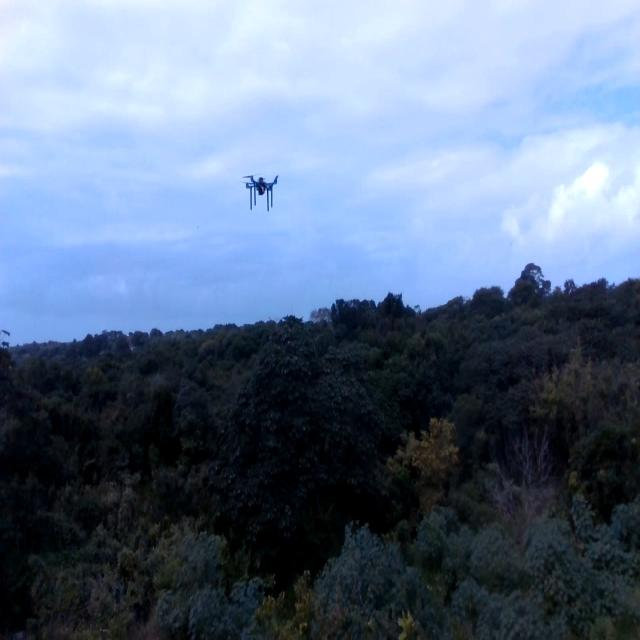-uav-: (238, 160, 284, 225)
